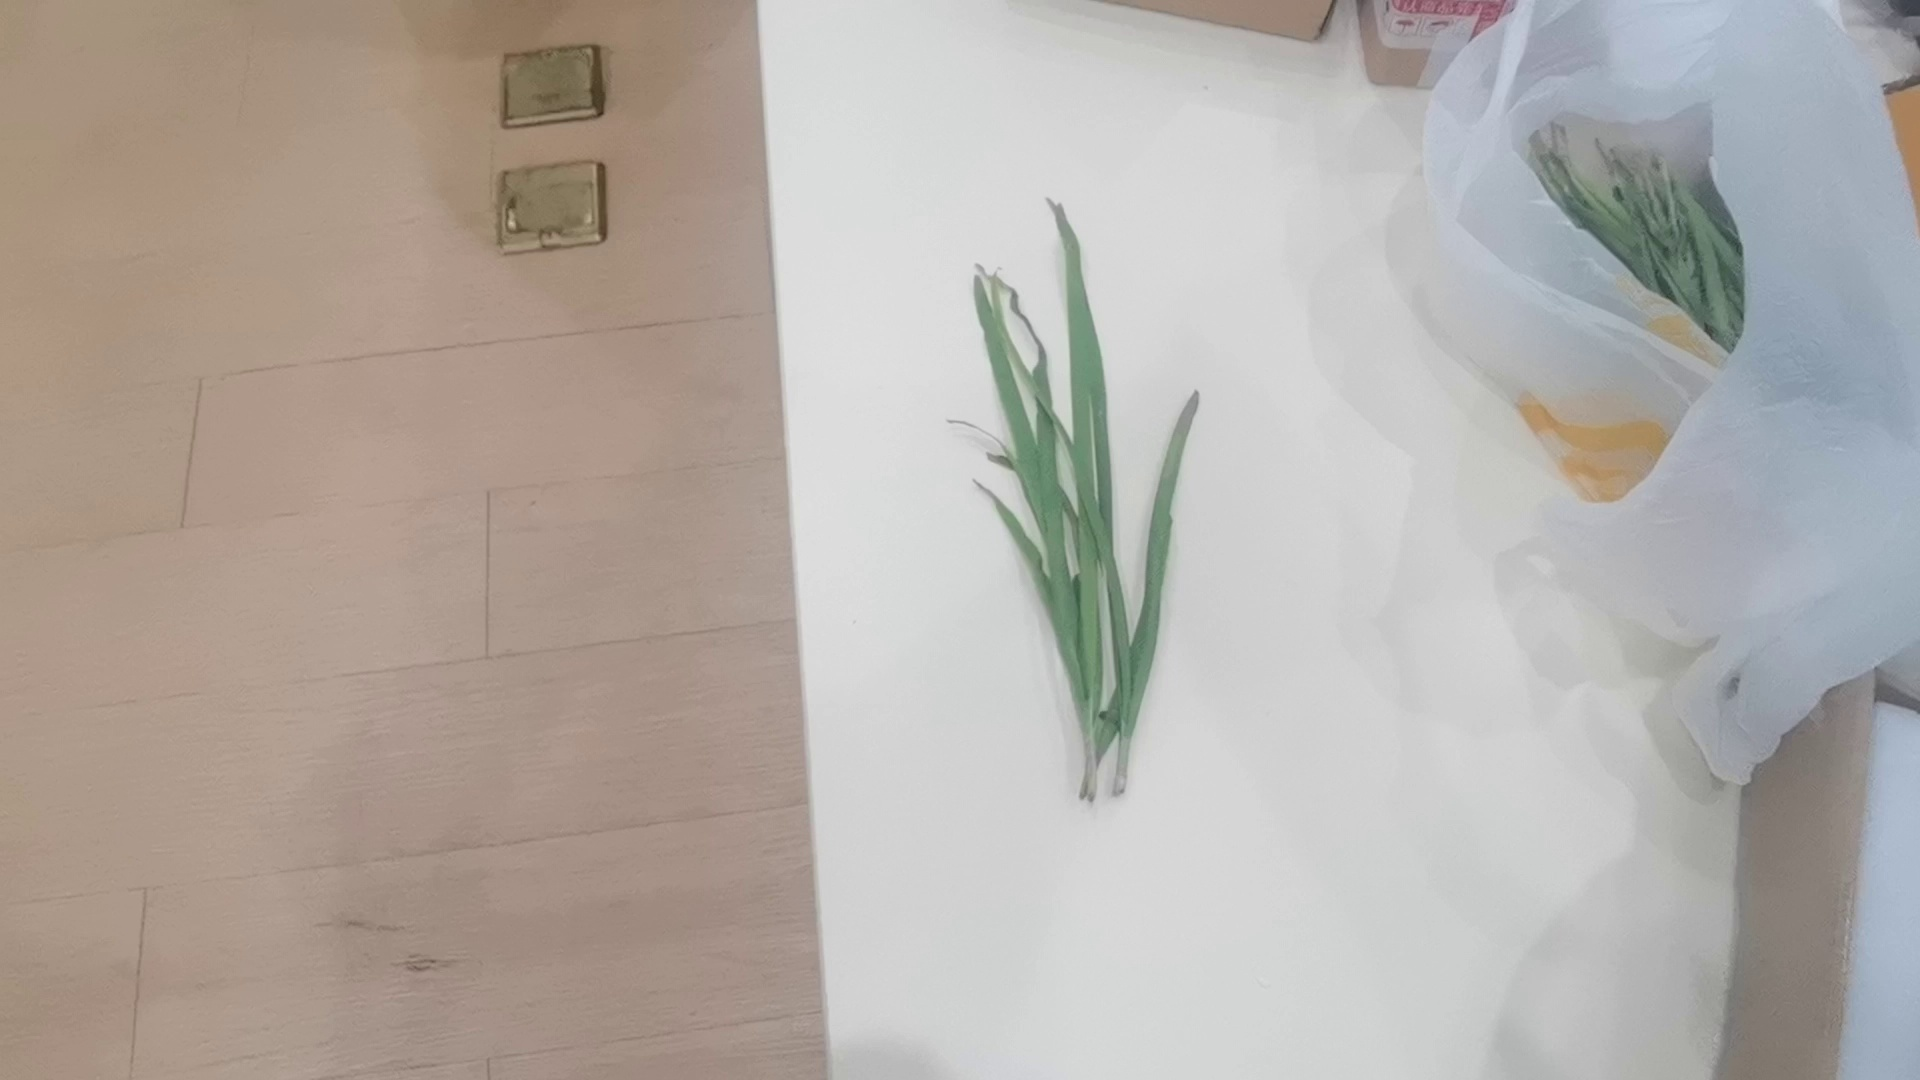chives: (957, 179, 1222, 824)
